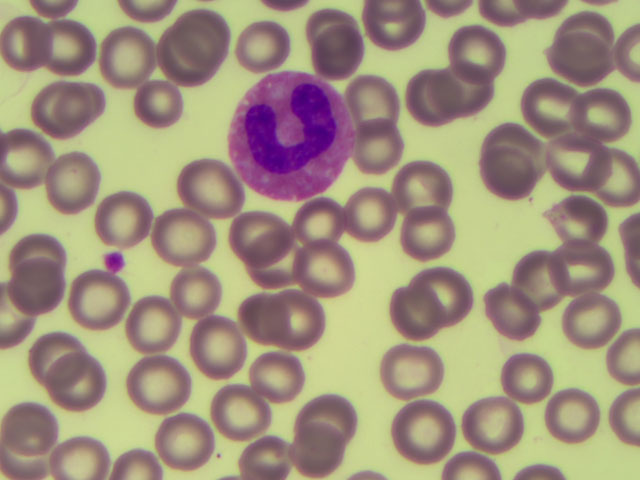Platelets: (104, 252, 128, 270)
RBC: (62, 422, 116, 480), (2, 16, 56, 73), (43, 17, 97, 74), (98, 28, 152, 85), (153, 33, 207, 90), (179, 12, 233, 69), (228, 18, 282, 75), (309, 24, 363, 81), (442, 20, 496, 77), (441, 75, 495, 132), (406, 66, 460, 123), (350, 70, 404, 127), (346, 120, 400, 177), (126, 76, 180, 133), (28, 83, 82, 140), (59, 75, 113, 132), (43, 153, 97, 210), (91, 185, 145, 242), (154, 203, 208, 260), (178, 161, 232, 218), (214, 204, 268, 261), (250, 231, 304, 288), (288, 187, 342, 244), (301, 232, 355, 289), (338, 183, 392, 240), (391, 157, 445, 214), (400, 197, 454, 254), (485, 141, 539, 198), (484, 111, 538, 168), (520, 79, 574, 136), (575, 81, 629, 138), (550, 127, 604, 184), (586, 149, 640, 206), (550, 33, 604, 90), (570, 4, 624, 61), (542, 182, 596, 239), (559, 235, 613, 292), (564, 293, 618, 350), (543, 383, 597, 440), (504, 347, 558, 404), (508, 250, 562, 307), (485, 281, 539, 338), (421, 261, 475, 318), (389, 282, 443, 339), (383, 338, 437, 395), (392, 398, 446, 455), (464, 393, 518, 450), (307, 382, 361, 439), (285, 417, 339, 474), (255, 341, 309, 398), (236, 296, 290, 353), (269, 289, 323, 346), (191, 313, 245, 370), (170, 265, 224, 322), (136, 295, 190, 352), (127, 353, 181, 410), (160, 412, 214, 469), (213, 388, 267, 445), (5, 400, 59, 457), (49, 349, 103, 406), (22, 324, 76, 381), (71, 273, 125, 330), (11, 262, 65, 319), (13, 223, 67, 280), (295, 1, 349, 57), (1, 130, 54, 187)
WBC: (231, 67, 360, 201)
